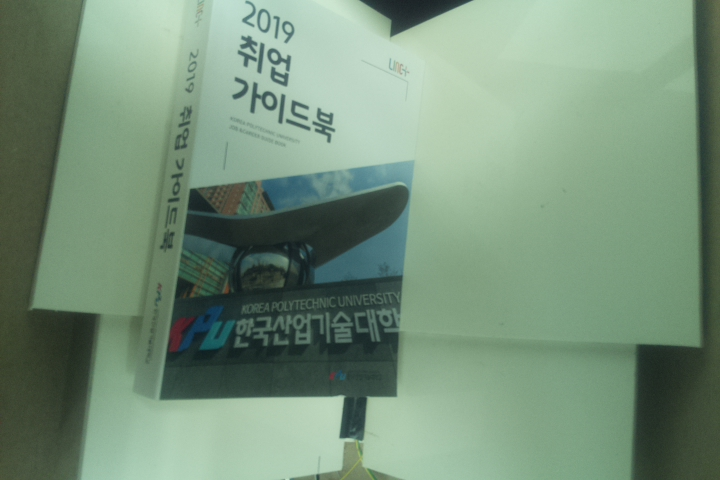book: (129, 1, 423, 403)
